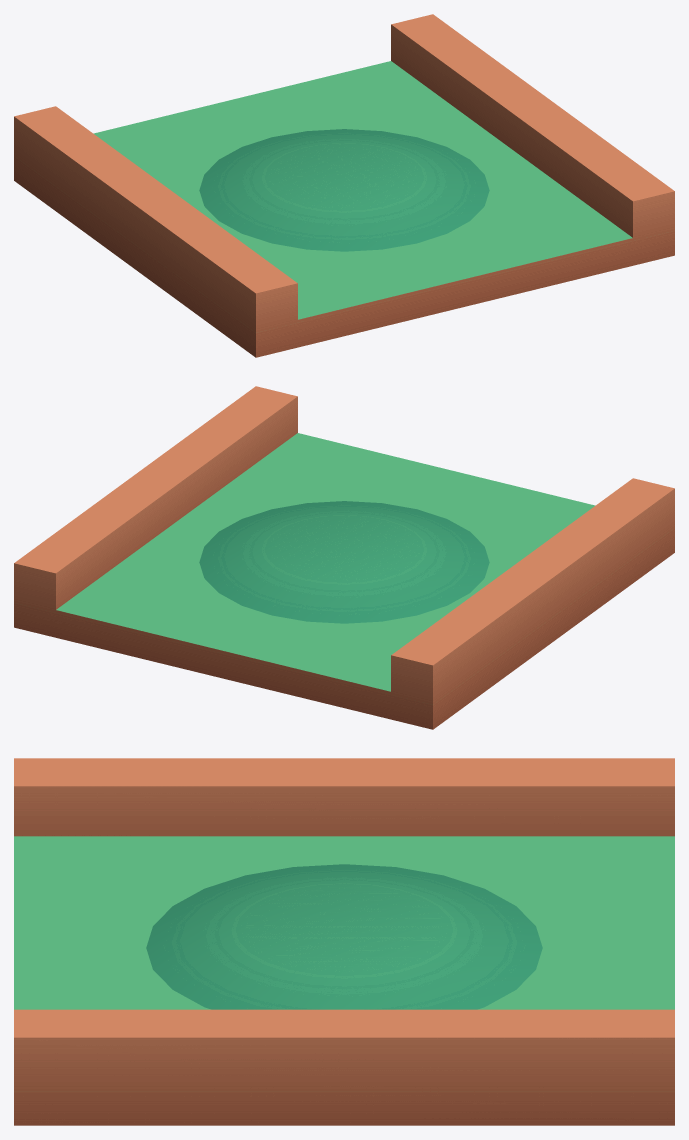
File: bump-walls.glb
3 views of the same model, one above another, from view 1: azimuth 30°, elevation 25°; view 2: azimuth 150°, elevation 25°; view 3: azimuth 270°, elevation 25° (orthographic). The views are drawn at different scales.
Visible parts, largest first — view 1: bump-walls; view 2: bump-walls; view 3: bump-walls.
Part boxes in pixels (box(x1,y1,x2,y2)): bump-walls: box(14, 14, 674, 357); bump-walls: box(14, 386, 674, 729); bump-walls: box(14, 758, 674, 1125).
Bounding box in the file's own units: 0.9999 × 0.1467 × 0.9999.
1 material, 1 textured.
